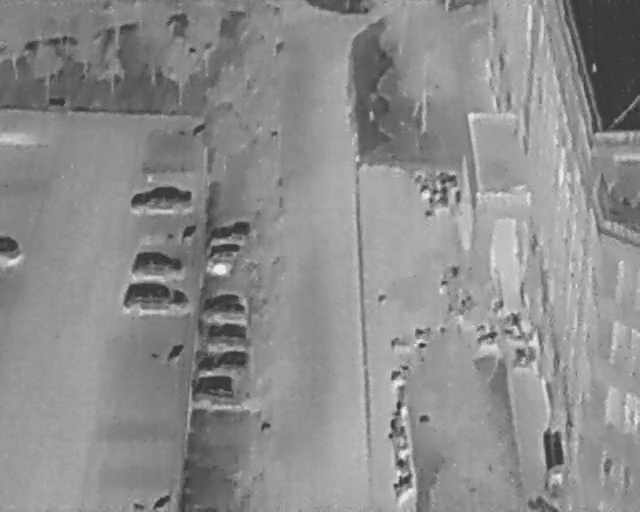Bicycle: (387, 469, 418, 496), (420, 195, 450, 221), (505, 311, 530, 338), (386, 359, 413, 384), (509, 347, 528, 374), (474, 328, 498, 348), (395, 446, 410, 474), (503, 328, 527, 344), (489, 295, 507, 315), (387, 416, 401, 439), (395, 383, 404, 416), (437, 185, 451, 206), (388, 338, 410, 349), (437, 172, 457, 183), (415, 325, 433, 337), (419, 181, 430, 200), (436, 279, 449, 294), (415, 339, 430, 351), (454, 191, 463, 209), (449, 265, 459, 279)
Car: (189, 372, 266, 409), (122, 278, 191, 316), (130, 183, 195, 217), (195, 347, 255, 375), (206, 219, 267, 245), (131, 248, 186, 276), (200, 291, 252, 317), (203, 318, 255, 344), (207, 240, 251, 262), (0, 231, 21, 267)
